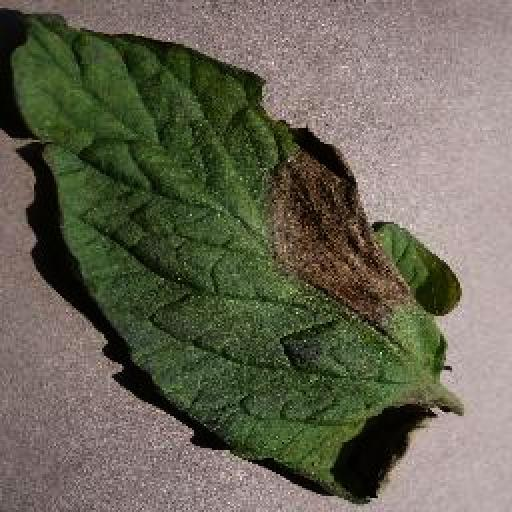disease_tomato: (4, 4, 466, 510)
